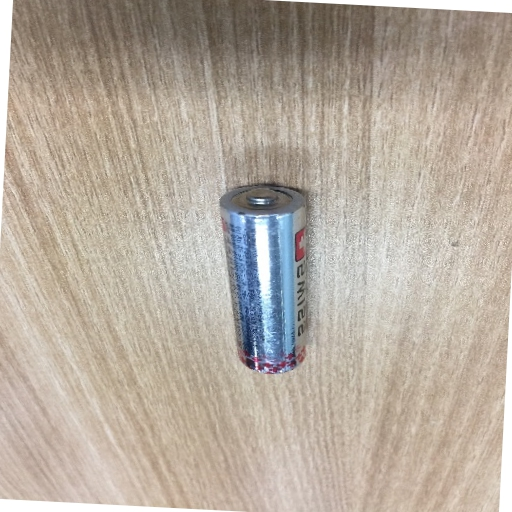Battery_0: (208, 165, 330, 390)
